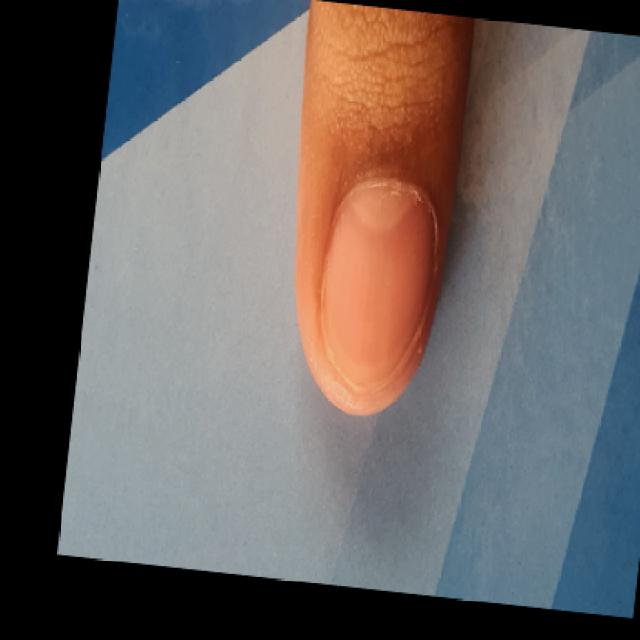Nail: (317, 182, 437, 391)
